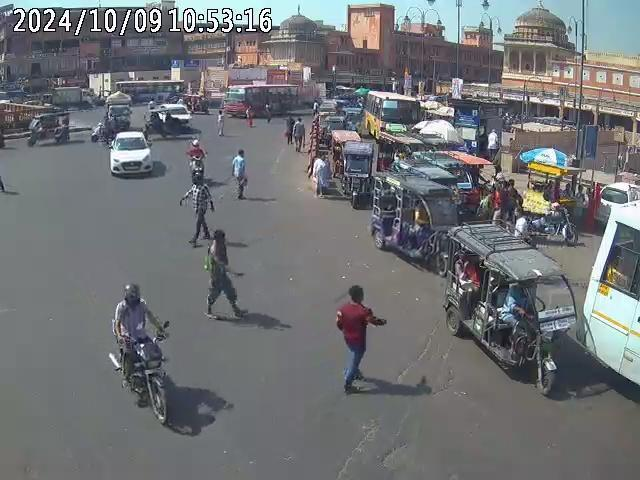auto: (440, 223, 576, 387), (370, 172, 456, 260), (408, 146, 488, 220), (337, 138, 380, 208), (25, 110, 71, 147)
bus: (582, 192, 640, 390), (362, 88, 421, 139), (225, 86, 294, 114)
car: (594, 181, 638, 232), (109, 131, 153, 178)
helmet: (120, 282, 142, 306)
motorbike-rider: (109, 280, 172, 427)
person: (334, 285, 383, 393), (203, 227, 242, 319), (184, 172, 214, 244), (494, 171, 522, 230), (308, 153, 332, 199), (231, 148, 247, 199), (292, 116, 307, 152), (216, 107, 229, 137), (245, 100, 256, 127)
scooty-rider: (184, 138, 207, 182)
